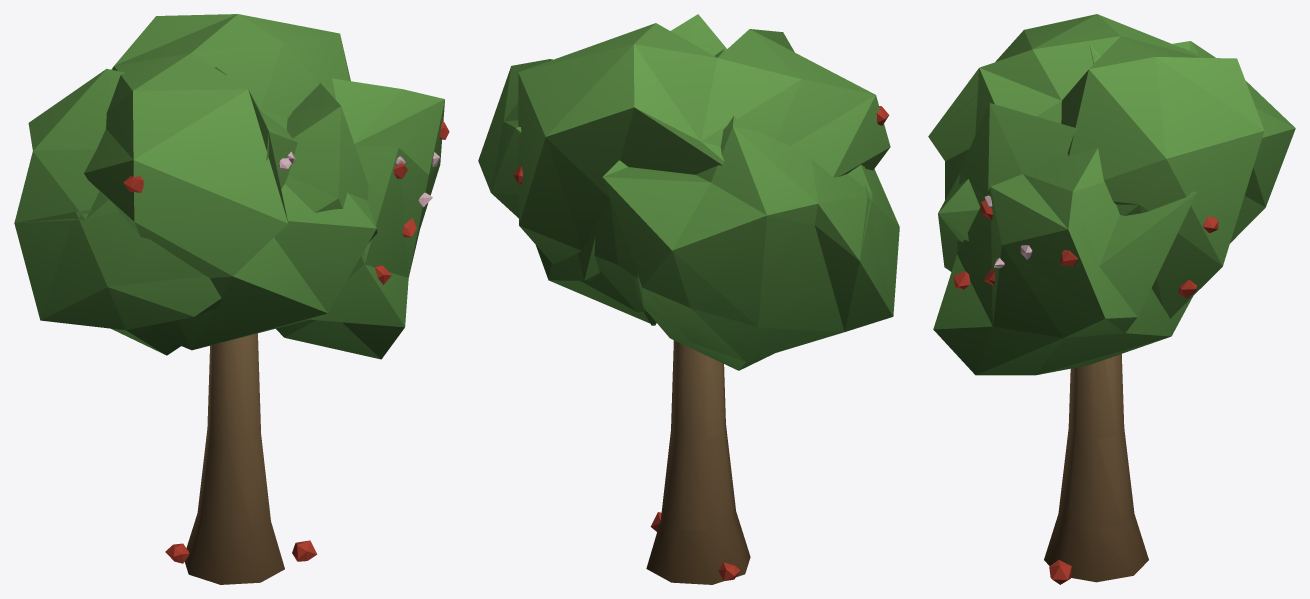
File: apple_tree.glb
The picture shows the model from 3 angles, left to right: view 1: azimuth 30°, elevation 25°; view 2: azimuth 150°, elevation 25°; view 3: azimuth 270°, elevation 25°; orthographic projection. The views are drawn at different scales.
Parts seen in each view (by area): view 1: apple_tree; view 2: apple_tree; view 3: apple_tree.
Boxes of the visible parts, <box> form: apple_tree: <box>14,14,449,584</box>; apple_tree: <box>478,14,899,584</box>; apple_tree: <box>928,14,1295,584</box>.
Size of the model in its own units: 3.18 by 3.92 by 2.51.
